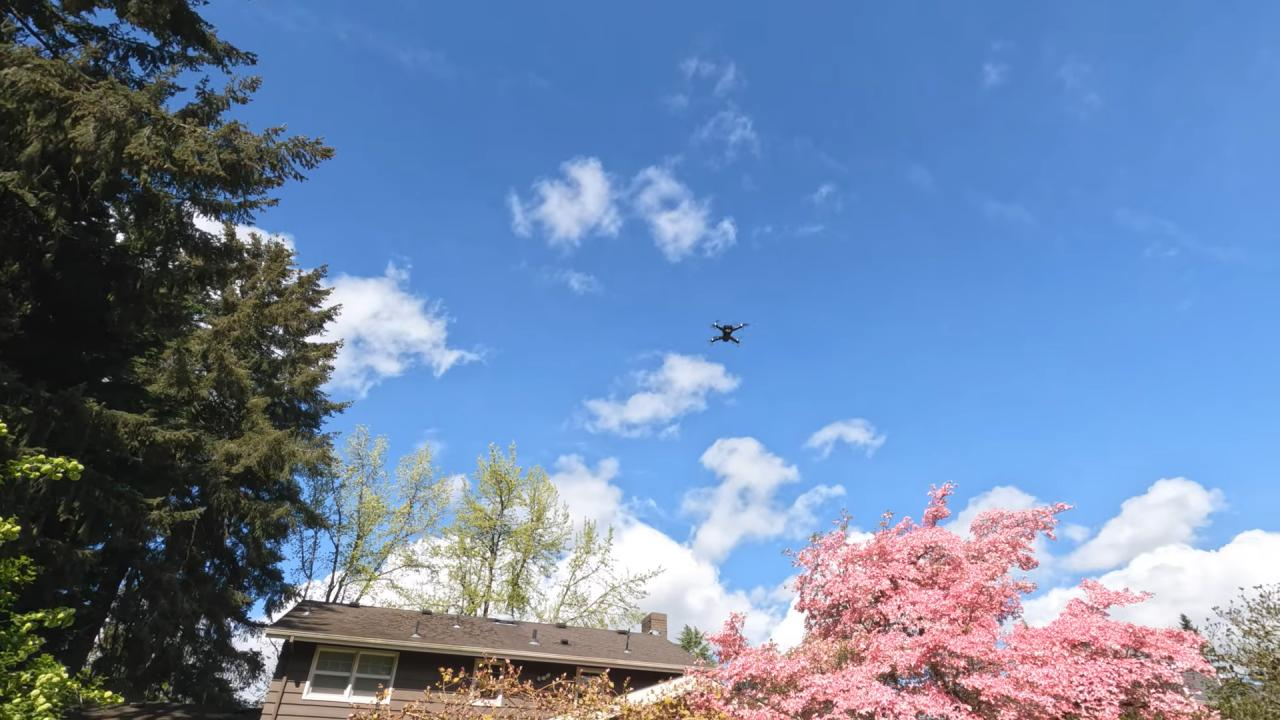Drone: (699, 310, 754, 356)
